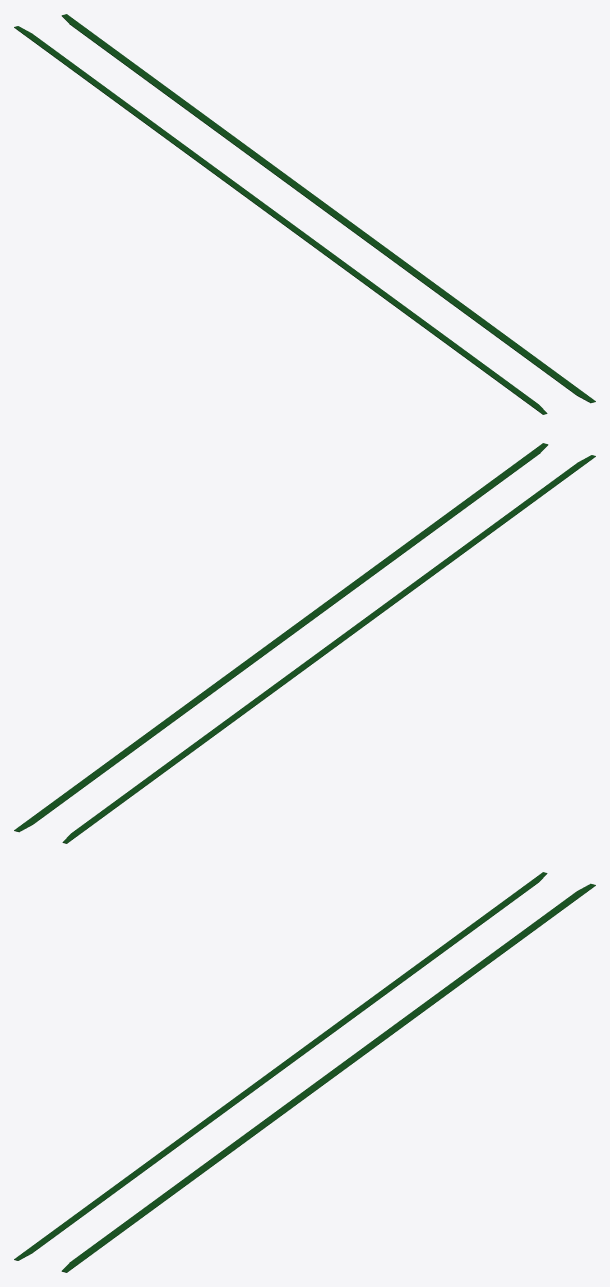
Rendered from caoping.FBX.
3 views of the same model, one above another, from view 1: azimuth 30°, elevation 25°; view 2: azimuth 150°, elevation 25°; view 3: azimuth 330°, elevation 25° (orthographic).
Visible parts, largest first — view 1: Line01; view 2: Line01; view 3: Line01.
Part boxes in pixels (box(x1,y1,x2,y2)): Line01: box(14, 14, 595, 414); Line01: box(14, 443, 595, 843); Line01: box(14, 872, 595, 1272).
Size of the model in its own units: 16.42 by 285 by 0.2.
